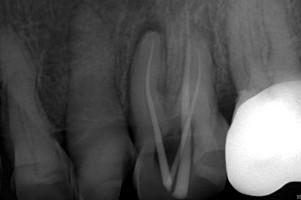Furcation Involvement: (133, 17, 167, 55)
